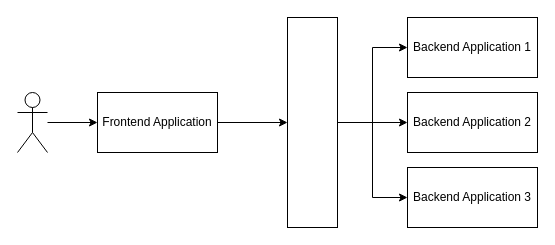
This 555x245 diagram has some shape labels left out. The shapes that lost their labels are listed below. From the top down, each one's centre as x and y in pixels, then its label:
At point (32, 122): "User".
At point (312, 122): "A P I G a t e w a y".
